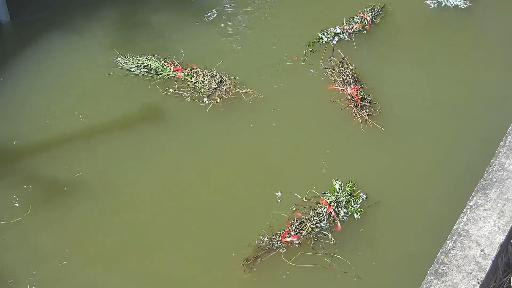twig: (238, 181, 372, 273), (107, 46, 264, 111), (313, 51, 394, 130), (307, 3, 408, 53), (425, 0, 478, 10)
